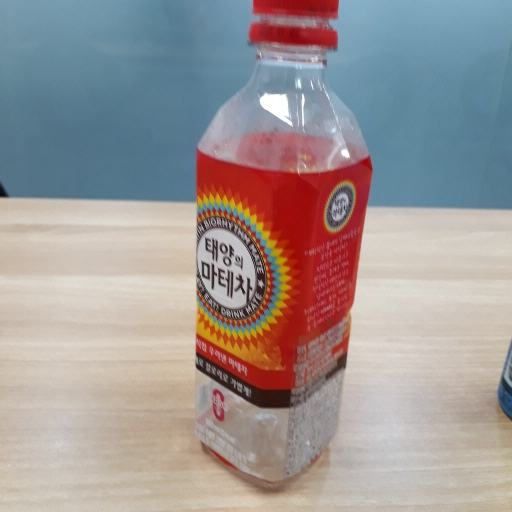Plastic_0: (192, 1, 374, 483)
